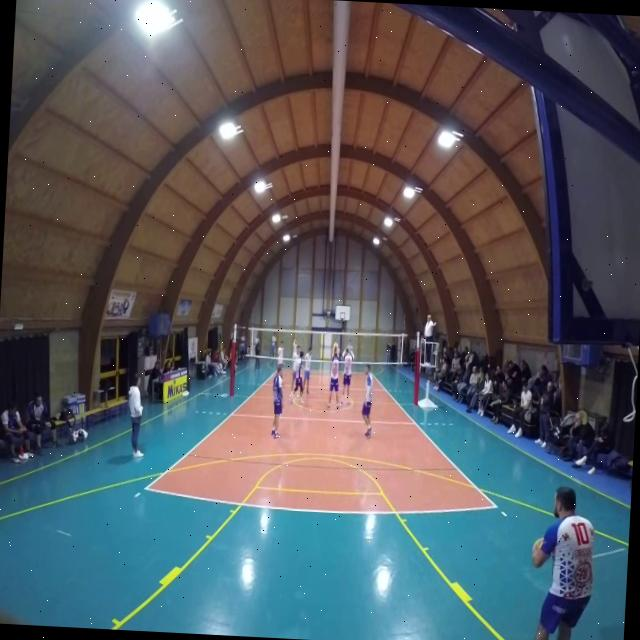Volleyball: (530, 532, 552, 568)
serve: (528, 469, 605, 640)
